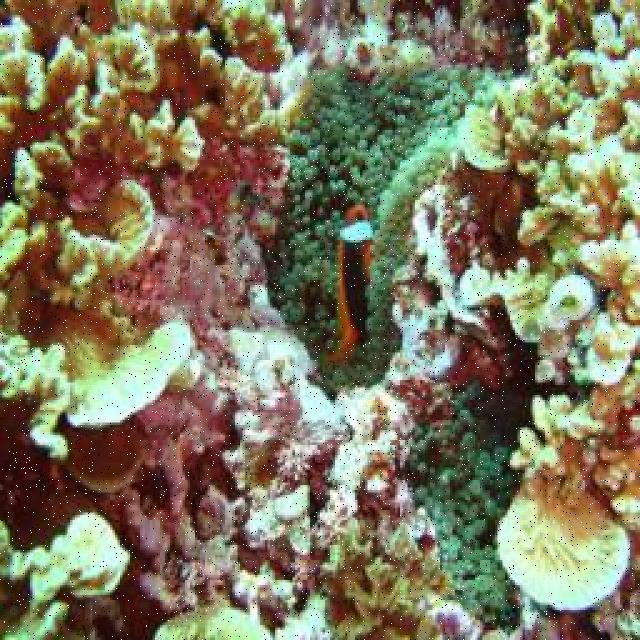fish: (333, 203, 372, 362)
reefs: (0, 0, 318, 463), (454, 0, 638, 612), (266, 61, 515, 390), (405, 379, 523, 631), (0, 510, 129, 636)
